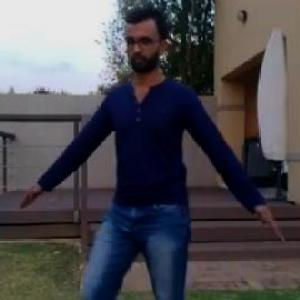land: (39, 17, 295, 299)
